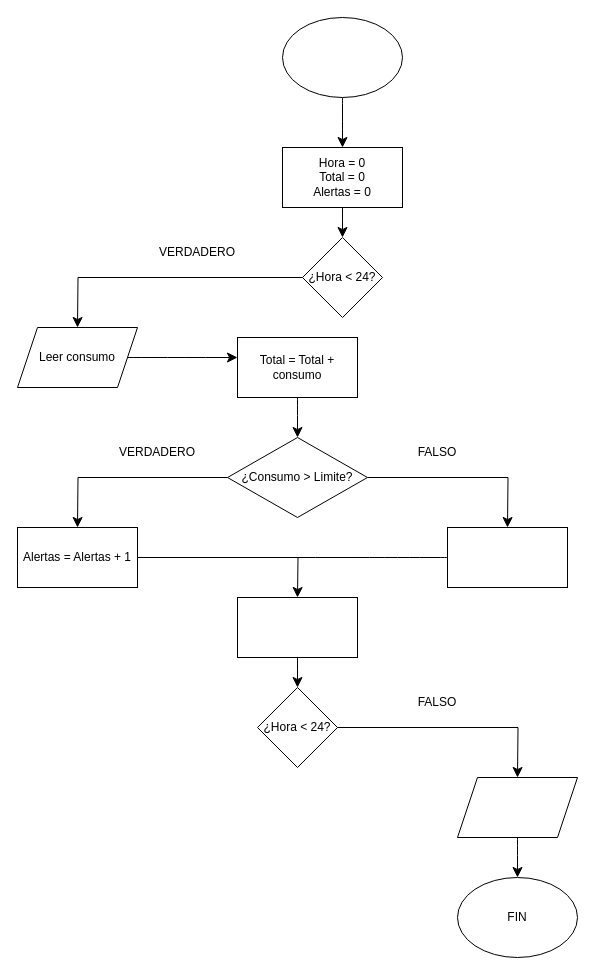
Some shapes in this 595 by 975 pixel diagram are drawn without their labels. The centre of each missing label's shape, as x and y in pixels:
Consumo aceptable: the point at 507,557
Hora = Hora + 1: the point at 297,627
INICIO: the point at 342,57
Mostrar total y alertas: the point at 517,807
